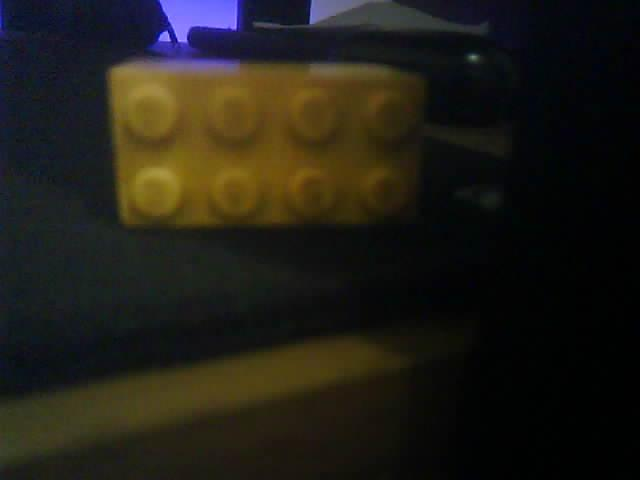lego: (106, 56, 427, 230)
